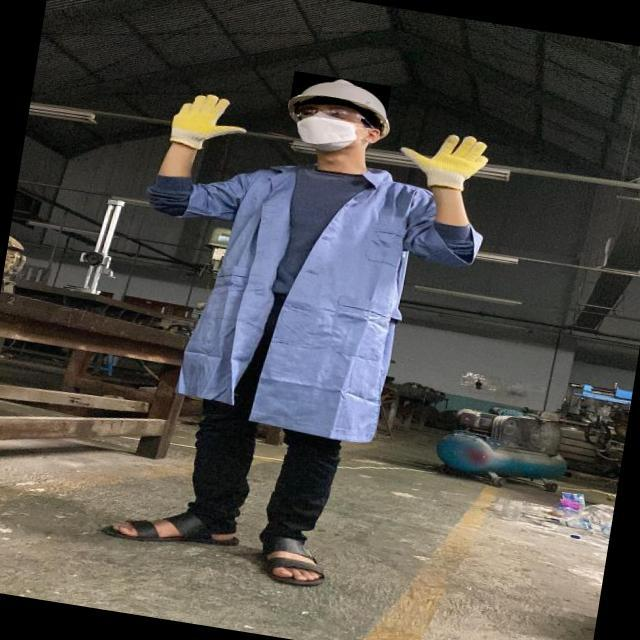Gloves: (398, 119, 493, 194), (155, 85, 250, 156)
Helmet: (288, 72, 391, 129)
Person: (93, 44, 497, 604)
no-boot: (103, 509, 330, 596)
no-vest: (142, 161, 487, 451)
